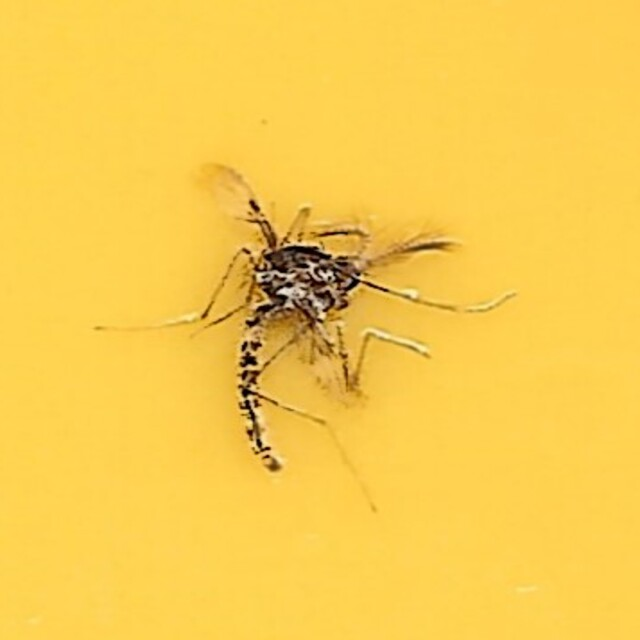Nematocera: (179, 157, 461, 483)
